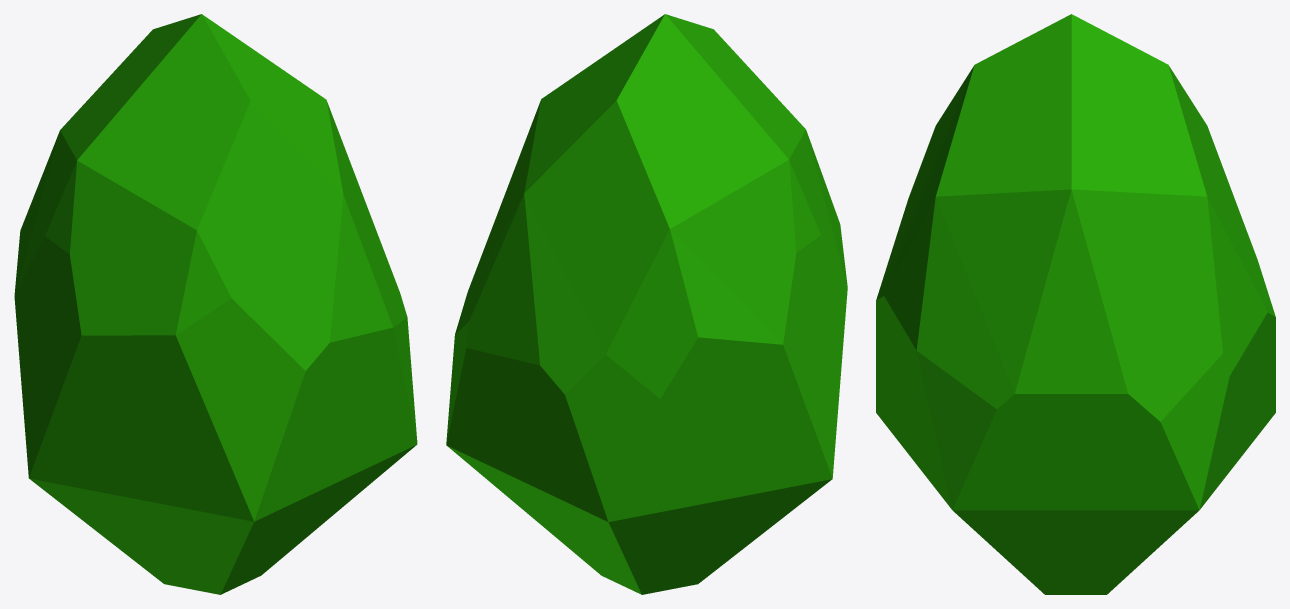
File: tree_leaf_B.fbx
The picture shows the model from 3 angles, left to right: view 1: azimuth 30°, elevation 25°; view 2: azimuth 150°, elevation 25°; view 3: azimuth 270°, elevation 25°; orthographic projection.
Parts seen in each view (by area): view 1: tree_leaf_B; view 2: tree_leaf_B; view 3: tree_leaf_B.
Part boxes in pixels (left/top/right/bottom): tree_leaf_B: left=14, top=14, right=417, bottom=594; tree_leaf_B: left=446, top=14, right=847, bottom=594; tree_leaf_B: left=876, top=14, right=1275, bottom=594.
Size of the model in its own units: 43.16 by 68.18 by 44.23.
